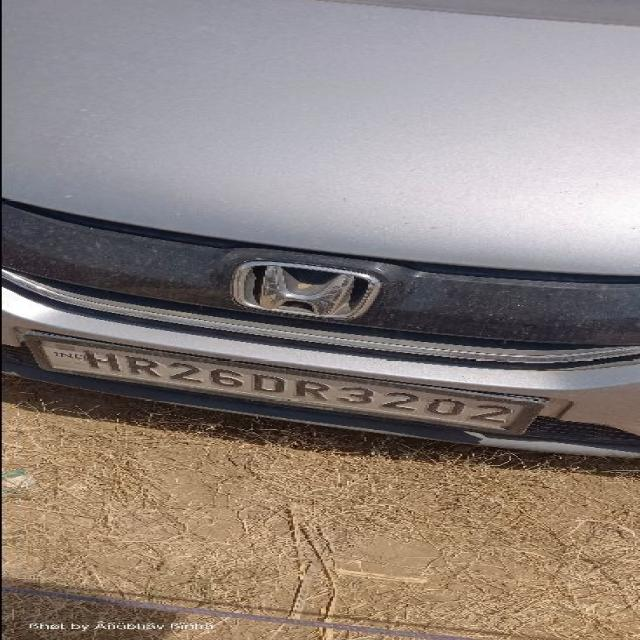license_plate: (19, 329, 556, 437)
